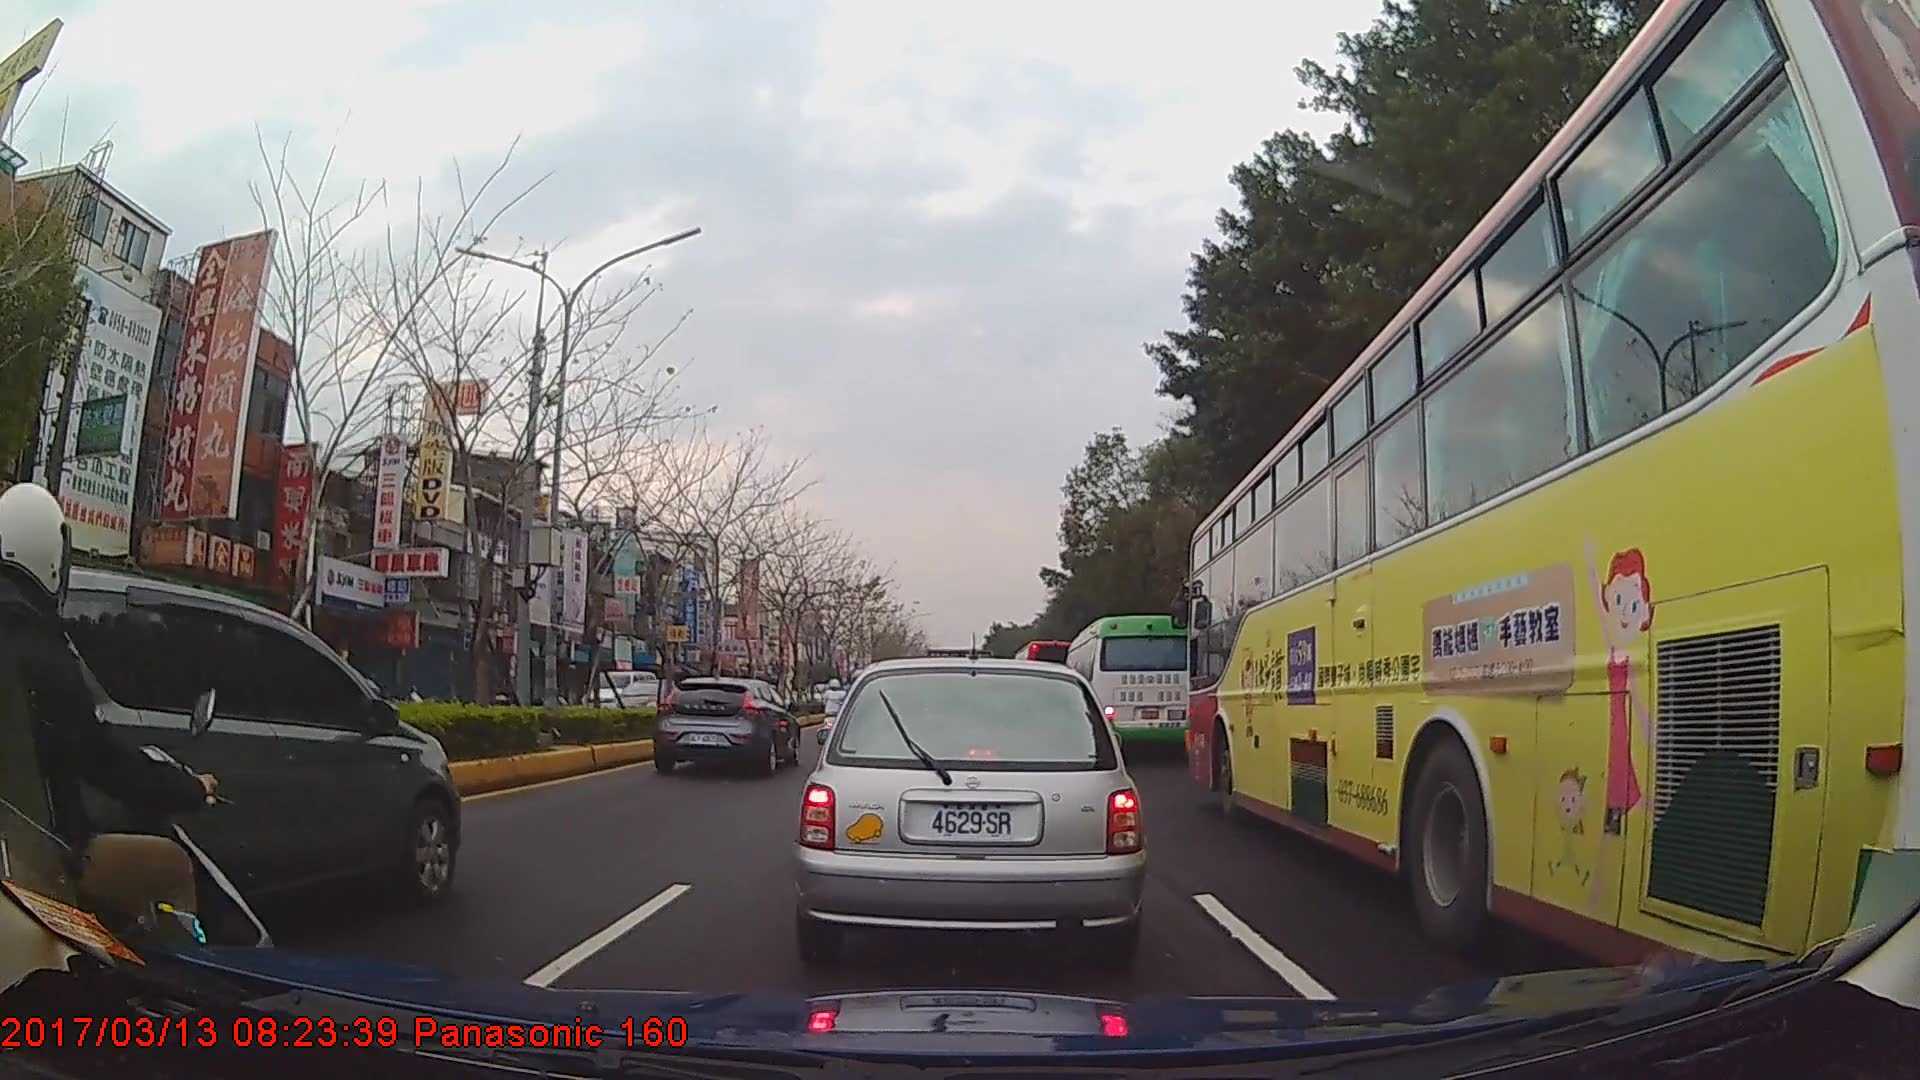rider: (1, 488, 275, 1052), (820, 677, 851, 745)
vehicle: (1186, 0, 1920, 988), (4, 550, 461, 931), (798, 652, 1146, 970), (1061, 613, 1197, 760), (648, 672, 801, 777)
